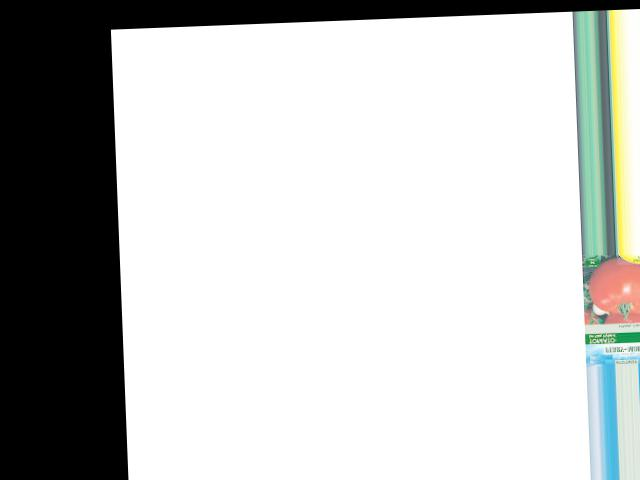tomato: (588, 256, 640, 315)
